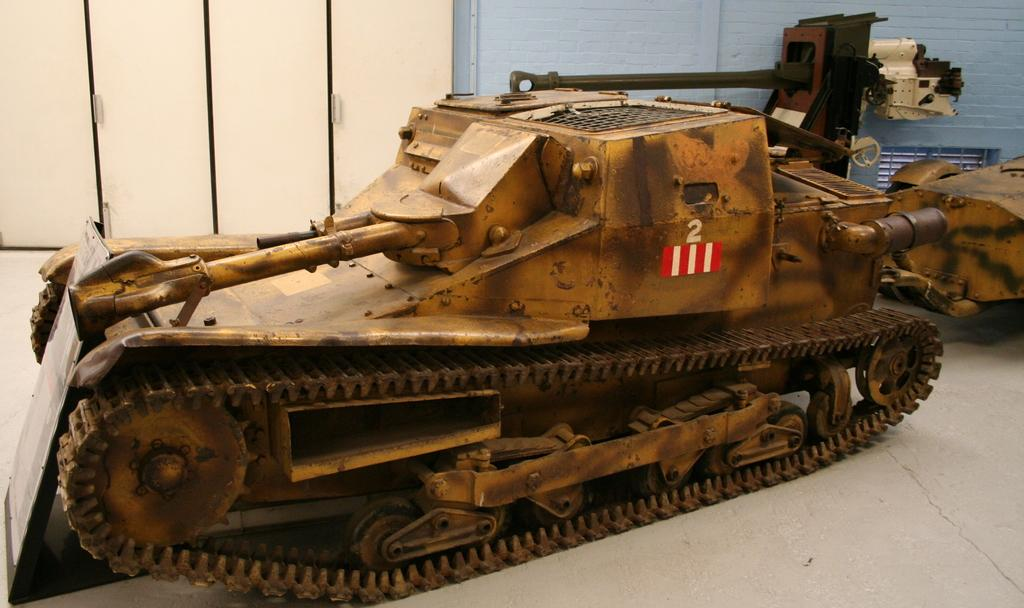Tank: (25, 89, 948, 606)
